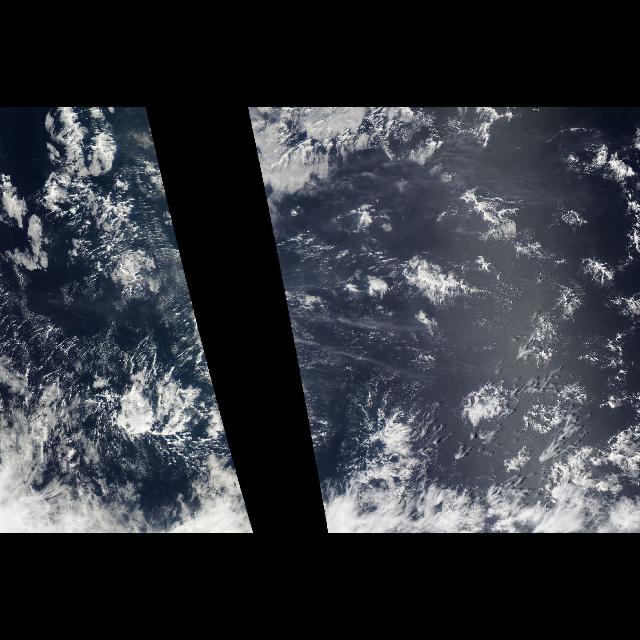Flower: (246, 109, 634, 452), (16, 109, 188, 281)
